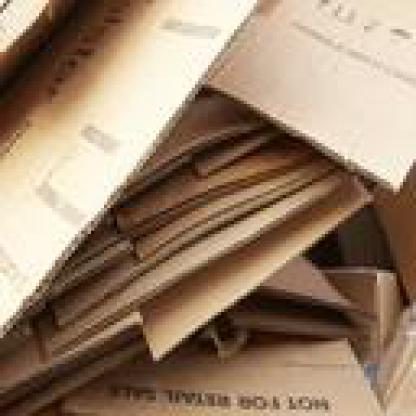CARDBOARD: (0, 0, 251, 345), (32, 159, 338, 367), (62, 153, 338, 338), (140, 172, 374, 358), (205, 0, 414, 189), (55, 130, 315, 280), (65, 332, 380, 413), (117, 88, 260, 208), (0, 318, 143, 413), (318, 260, 400, 358), (370, 175, 413, 302)
